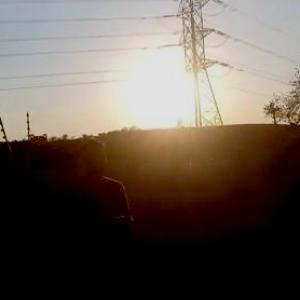follow: (61, 133, 138, 299)
